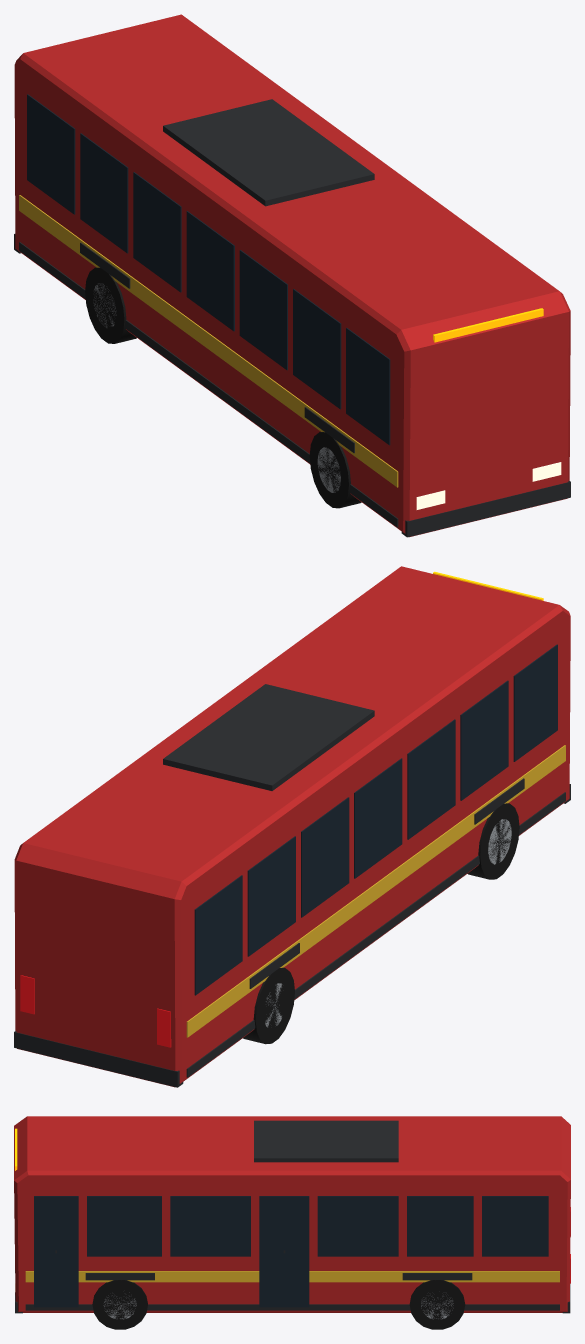
The model's file is bus.fbx.
The picture shows the model from 3 angles, top to bottom: view 1: azimuth 30°, elevation 25°; view 2: azimuth 150°, elevation 25°; view 3: azimuth 270°, elevation 25°; orthographic projection. The views are drawn at different scales.
Parts seen in each view (by area): view 1: bus_paint, bus_glass, bus_trim, bus_stripe, bus_tyre, bus_rim, bus_sign, bus_headlight; view 2: bus_paint, bus_glass, bus_trim, bus_stripe, bus_tyre, bus_taillight, bus_rim; view 3: bus_paint, bus_glass, bus_trim, bus_tyre, bus_stripe, bus_rim.
Boxes of the visible parts, left/top/right/bottom form: bus_paint: left=14, top=14, right=570, bottom=537; bus_glass: left=27, top=94, right=390, bottom=445; bus_trim: left=14, top=99, right=570, bottom=537; bus_stripe: left=19, top=195, right=398, bottom=487; bus_tyre: left=85, top=267, right=361, bottom=508; bus_rim: left=93, top=283, right=340, bottom=492; bus_sign: left=433, top=308, right=543, bottom=342; bus_headlight: left=416, top=462, right=561, bottom=509; bus_paint: left=14, top=566, right=570, bottom=1087; bus_glass: left=194, top=644, right=557, bottom=995; bus_trim: left=14, top=684, right=570, bottom=1087; bus_stripe: left=186, top=745, right=565, bottom=1037; bus_tyre: left=243, top=803, right=519, bottom=1044; bus_taillight: left=20, top=975, right=171, bottom=1047; bus_rim: left=265, top=819, right=511, bottom=1027; bus_paint: left=14, top=1116, right=570, bottom=1312; bus_glass: left=34, top=1196, right=548, bottom=1307; bus_trim: left=15, top=1120, right=570, bottom=1313; bus_tyre: left=92, top=1280, right=465, bottom=1329; bus_stripe: left=25, top=1271, right=559, bottom=1282; bus_rim: left=103, top=1292, right=453, bottom=1319.
Size of the model in its own units: 2.5 by 3.19 by 10.01.
